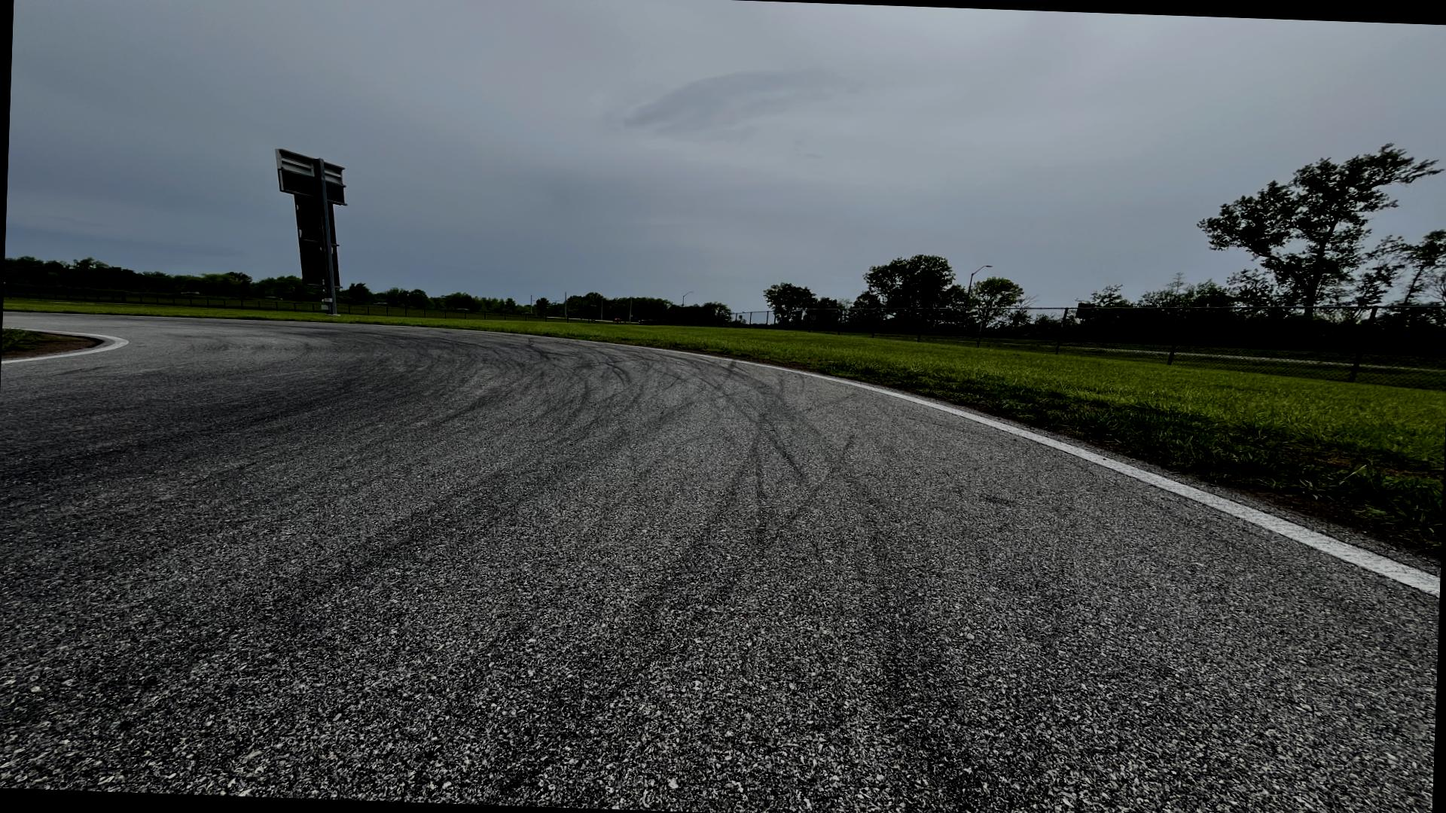white-line: (35, 312, 1439, 598), (1, 327, 130, 364)
